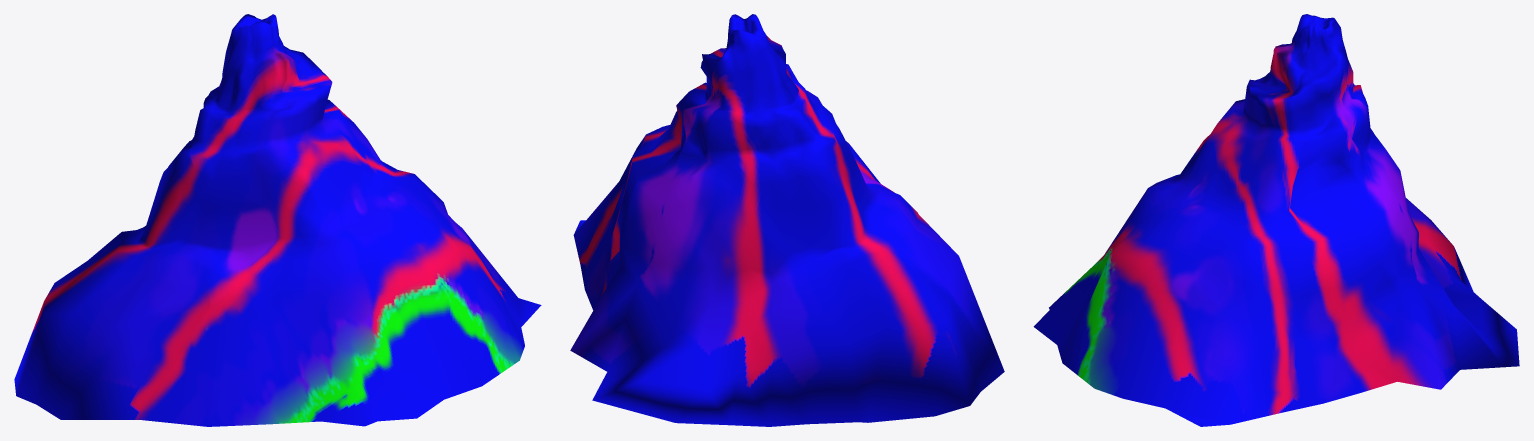
File: MountainShape.dae
3 views of the same model, side by side, from view 1: azimuth 30°, elevation 25°; view 2: azimuth 150°, elevation 25°; view 3: azimuth 270°, elevation 25° (orthographic).
Visible parts, largest first — view 1: Mountain; view 2: Mountain; view 3: Mountain.
Boxes of the visible parts, x1=… form: Mountain: x1=14, y1=14, x2=541, y2=426; Mountain: x1=570, y1=14, x2=1004, y2=426; Mountain: x1=1033, y1=14, x2=1519, y2=426.
Bounding box in the file's own units: 202 × 138 × 185.
